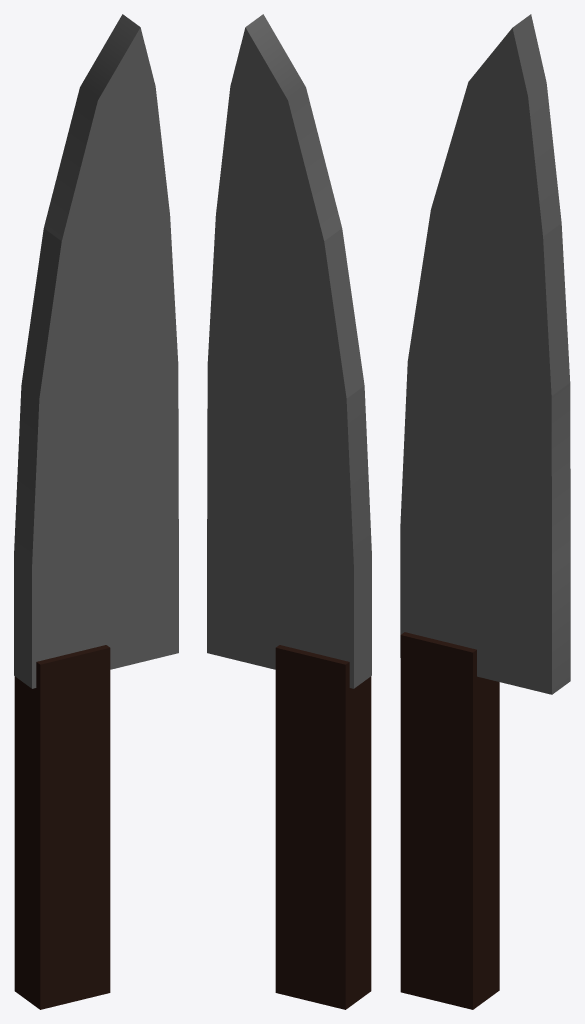
The picture shows the model from 3 angles, left to right: view 1: azimuth 30°, elevation 25°; view 2: azimuth 150°, elevation 25°; view 3: azimuth 330°, elevation 25°; orthographic projection. The views are drawn at different scales.
Visible parts, largest first — view 1: pPrism2, pCube1; view 2: pPrism2, pCube1; view 3: pPrism2, pCube1.
Boxes of the visible parts, bbox=[...] form: pPrism2: bbox=[14, 14, 178, 688]; pCube1: bbox=[14, 645, 110, 1009]; pPrism2: bbox=[207, 14, 371, 688]; pCube1: bbox=[275, 645, 371, 1009]; pPrism2: bbox=[400, 14, 570, 694]; pCube1: bbox=[400, 632, 499, 1009].
Size of the model in its own units: 0.3912 by 2.43 by 0.1191.
